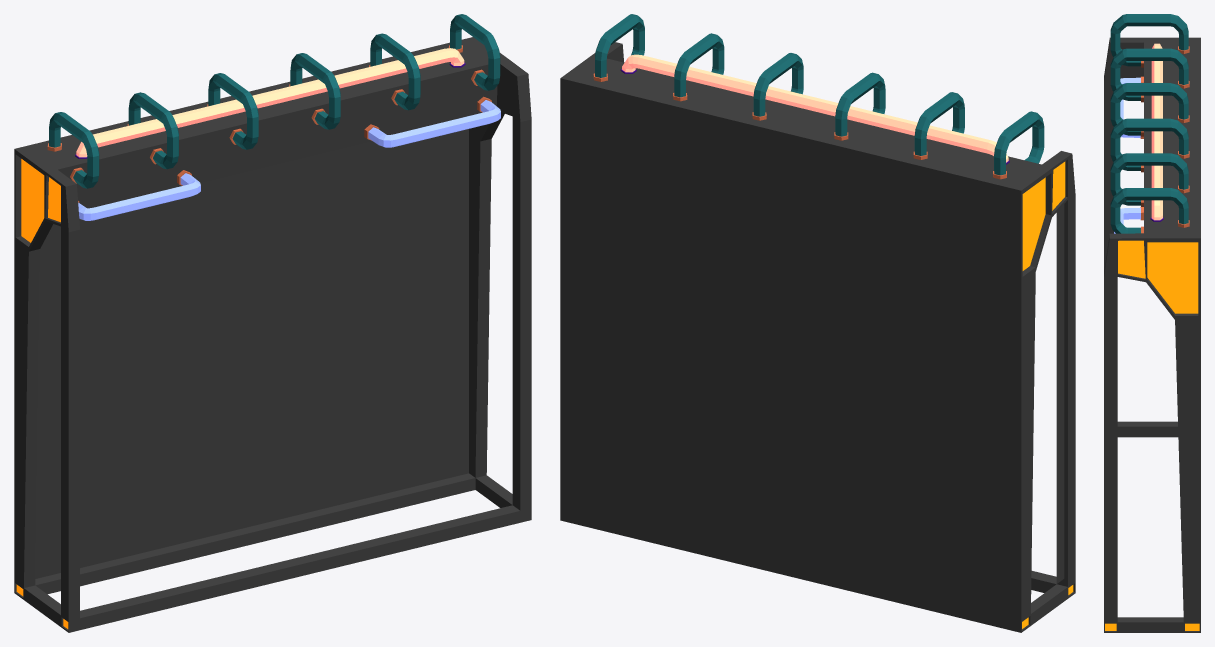
File: SmallStorageLOD.fbx
3 views of the same model, side by side, from view 1: azimuth 30°, elevation 25°; view 2: azimuth 150°, elevation 25°; view 3: azimuth 270°, elevation 25° (orthographic). The views are drawn at different scales.
Visible parts, largest first — view 1: MediumStorage_LOD0; view 2: MediumStorage_LOD0; view 3: MediumStorage_LOD0.
Part boxes in pixels (x1,y1,x2,y2): MediumStorage_LOD0: (14, 14, 531, 632); MediumStorage_LOD0: (560, 14, 1075, 632); MediumStorage_LOD0: (1104, 14, 1200, 632).
Size of what is drawn, in the model's own units: 2000 by 2000 by 408.
